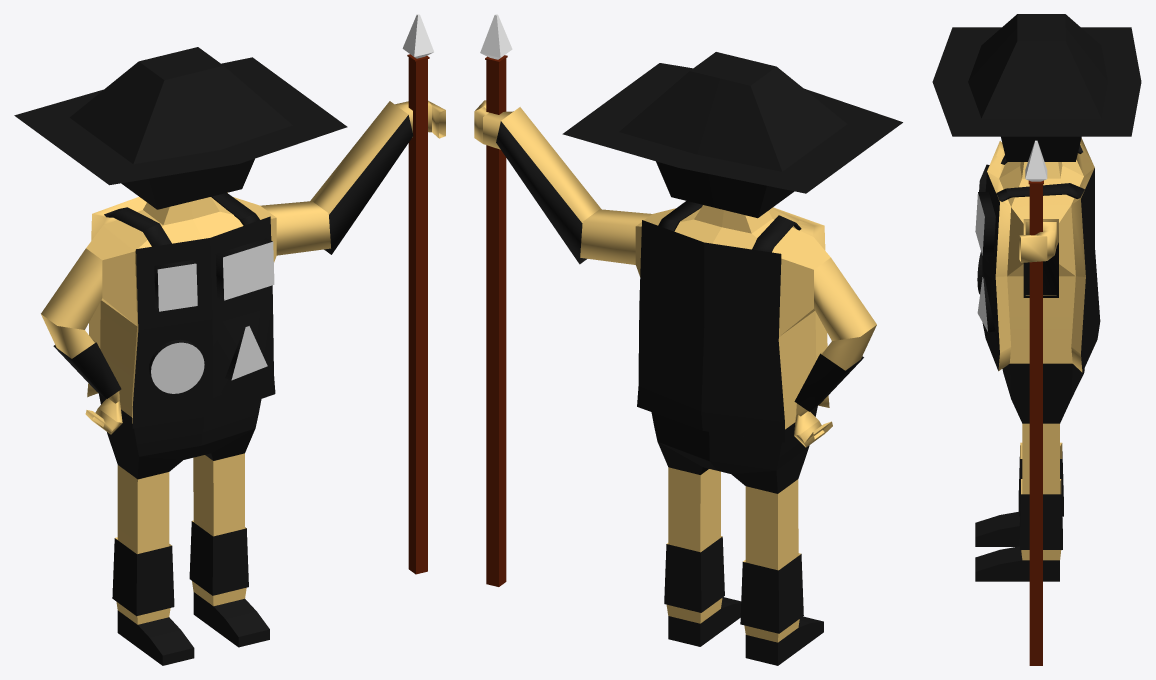
The model's file is NPC Gate Keeper.fbx.
The picture shows the model from 3 angles, left to right: view 1: azimuth 30°, elevation 25°; view 2: azimuth 150°, elevation 25°; view 3: azimuth 270°, elevation 25°; orthographic projection. The views are drawn at different scales.
Parts seen in each view (by area): view 1: Cube; view 2: Cube; view 3: Cube.
Part boxes in pixels (x1,y1,x2,y2): Cube: [14, 14, 445, 665]; Cube: [474, 14, 902, 665]; Cube: [932, 14, 1141, 665].
Size of the model in its own units: 90.84 by 127 by 45.32.
